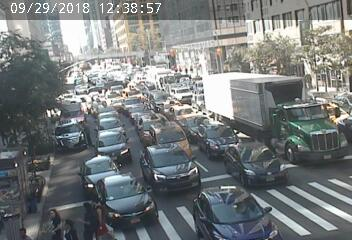car: (212, 84, 338, 146), (201, 193, 273, 231), (228, 143, 285, 188), (147, 148, 200, 178), (104, 179, 154, 210), (51, 121, 92, 153), (94, 129, 137, 157), (200, 126, 235, 154), (85, 160, 123, 178), (154, 131, 192, 147), (171, 85, 198, 103), (179, 117, 205, 133), (171, 106, 198, 120), (134, 119, 164, 131), (97, 116, 122, 129), (123, 108, 152, 116), (158, 102, 179, 113), (94, 105, 116, 115), (122, 98, 144, 106)
